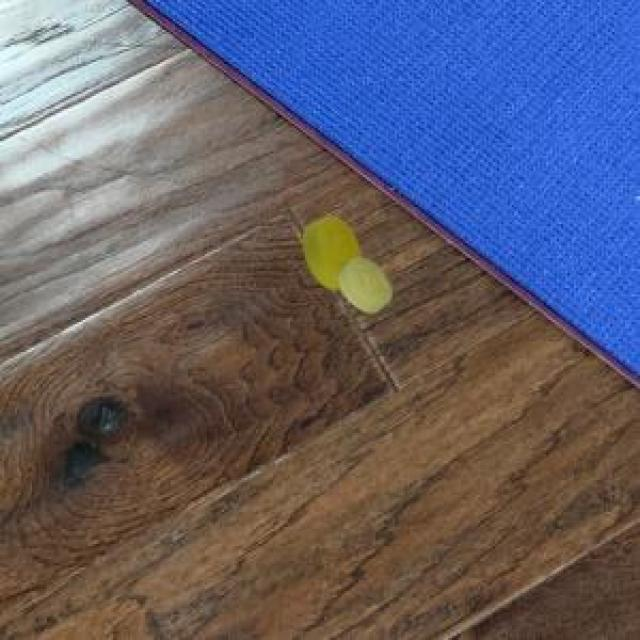Decolgen: (298, 212, 394, 320)
